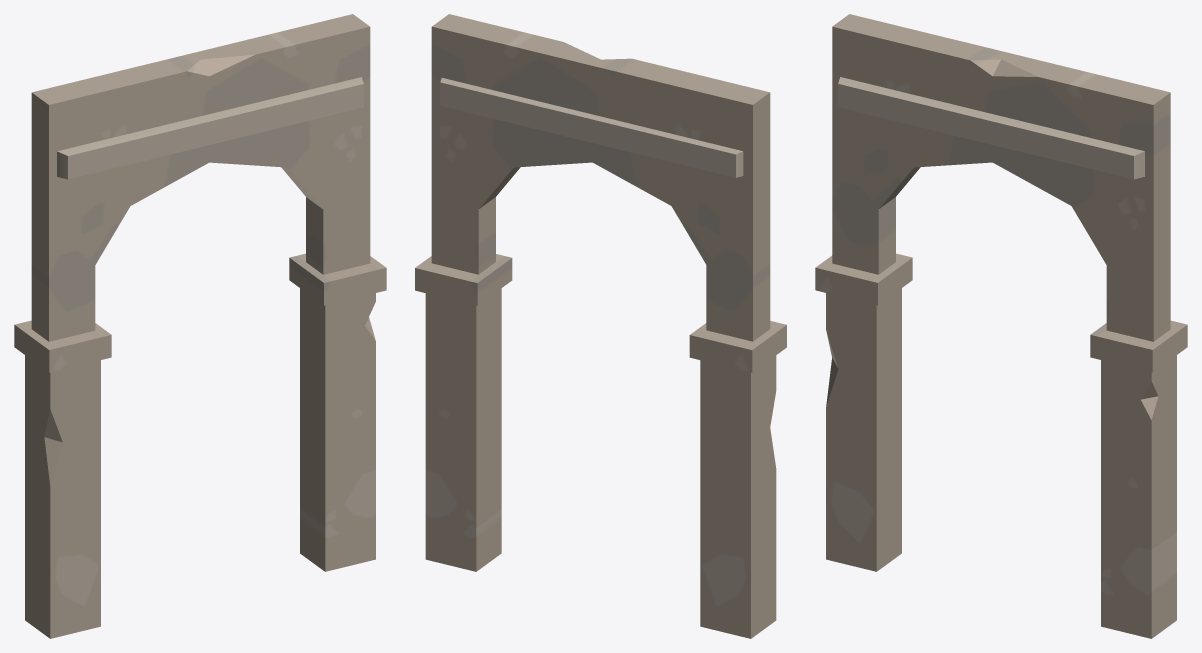
File: SM_Bld_Village_Archway_Single_01.glb
3 renders of one model, left to right at view 1: azimuth 30°, elevation 25°; view 2: azimuth 150°, elevation 25°; view 3: azimuth 330°, elevation 25°, orthographic.
Visible parts, largest first — view 1: SM_Bld_Village_Archway_Single_01; view 2: SM_Bld_Village_Archway_Single_01; view 3: SM_Bld_Village_Archway_Single_01.
Boxes of the visible parts, x1=… form: SM_Bld_Village_Archway_Single_01: x1=14, y1=14, x2=386, y2=638; SM_Bld_Village_Archway_Single_01: x1=415, y1=14, x2=786, y2=638; SM_Bld_Village_Archway_Single_01: x1=815, y1=14, x2=1187, y2=638.
Bounding box in the file's own units: 2.82 × 4.23 × 0.5021.
Materials: 1 (1 with a texture image).
